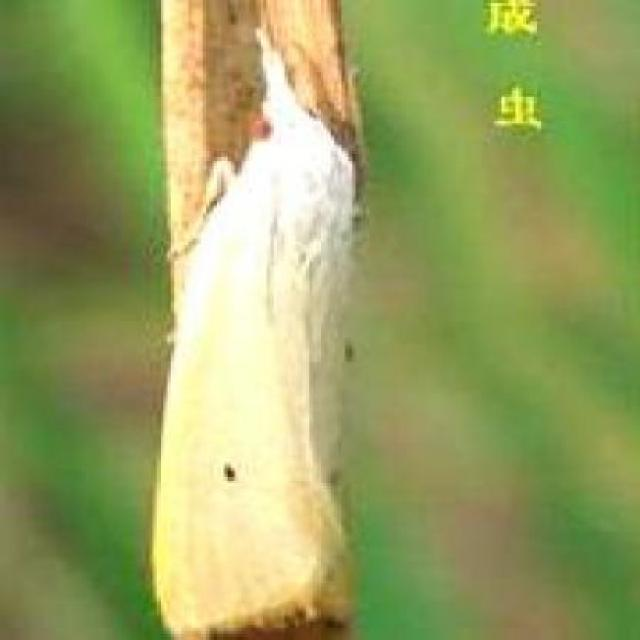stem-borer: (149, 20, 362, 640)
